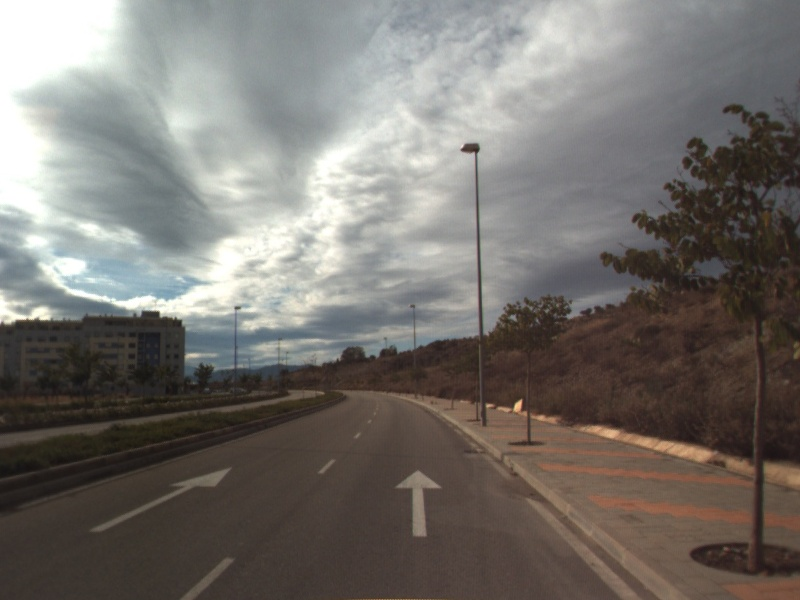STRAIGHT: (86, 465, 234, 534), (392, 468, 444, 539)
